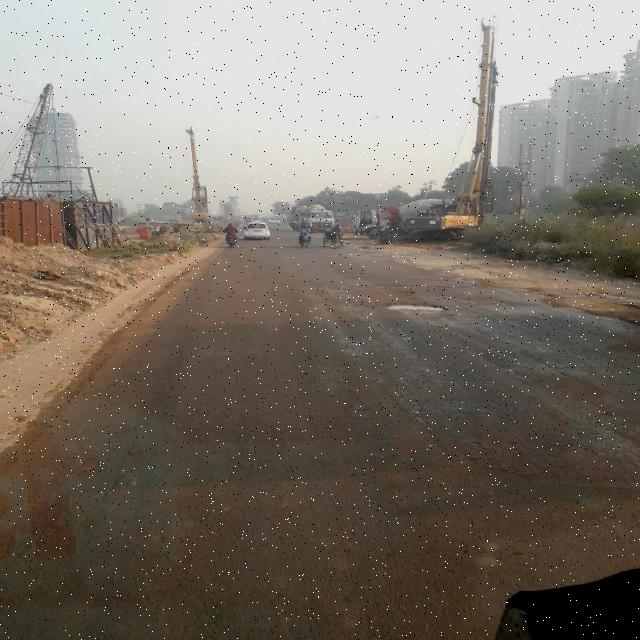D40: (379, 290, 454, 328)
